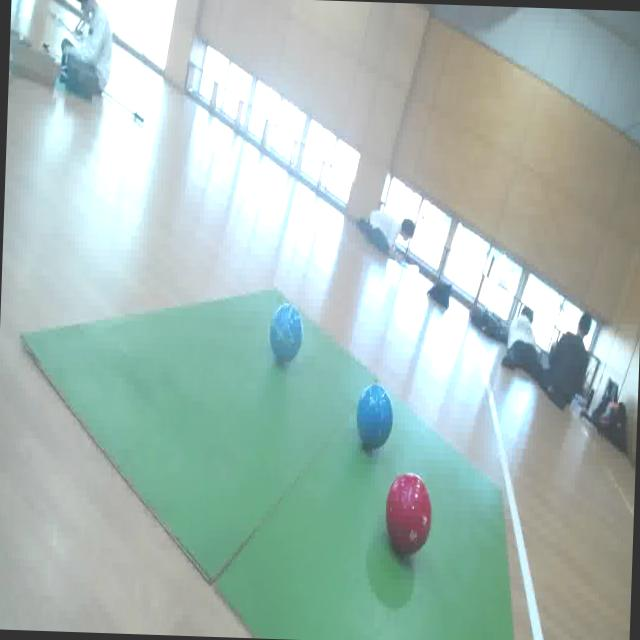blue_ball: (352, 380, 397, 456), (266, 301, 306, 367)
red_ball: (382, 465, 433, 560)
